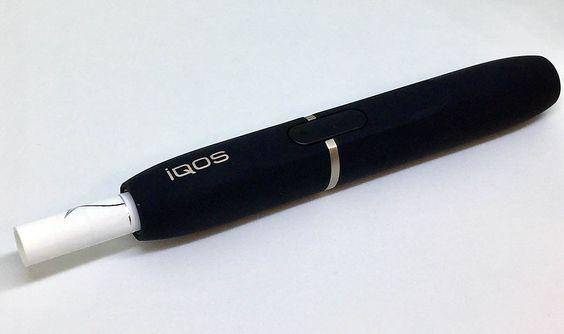iqos: (15, 56, 560, 266)
